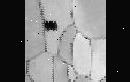good_void: (41, 19, 58, 33)
